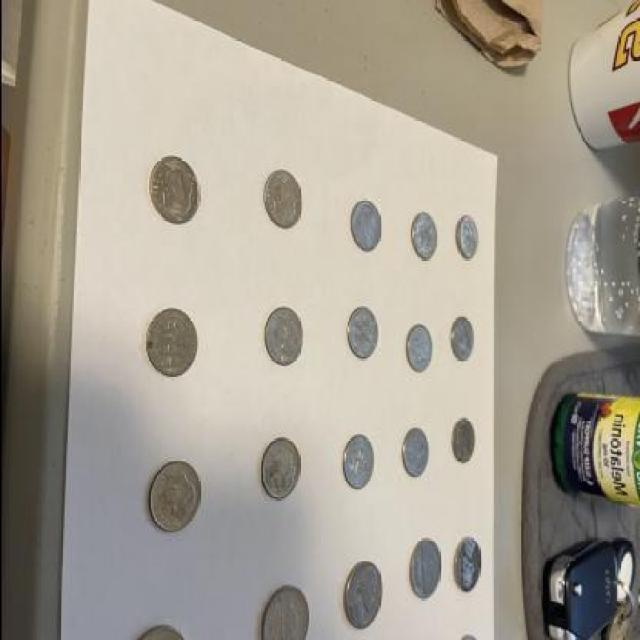Dime: (144, 458, 203, 534), (144, 153, 200, 224), (143, 307, 199, 378), (257, 438, 303, 502), (262, 166, 304, 234), (262, 304, 304, 368), (338, 434, 376, 491), (349, 198, 383, 256), (344, 304, 378, 360), (450, 214, 484, 263), (403, 321, 434, 374), (400, 428, 431, 480), (409, 210, 437, 264), (446, 418, 477, 466), (446, 316, 477, 364)
Nickel: (252, 583, 311, 639), (342, 563, 384, 632), (404, 534, 440, 600), (451, 534, 482, 598)
